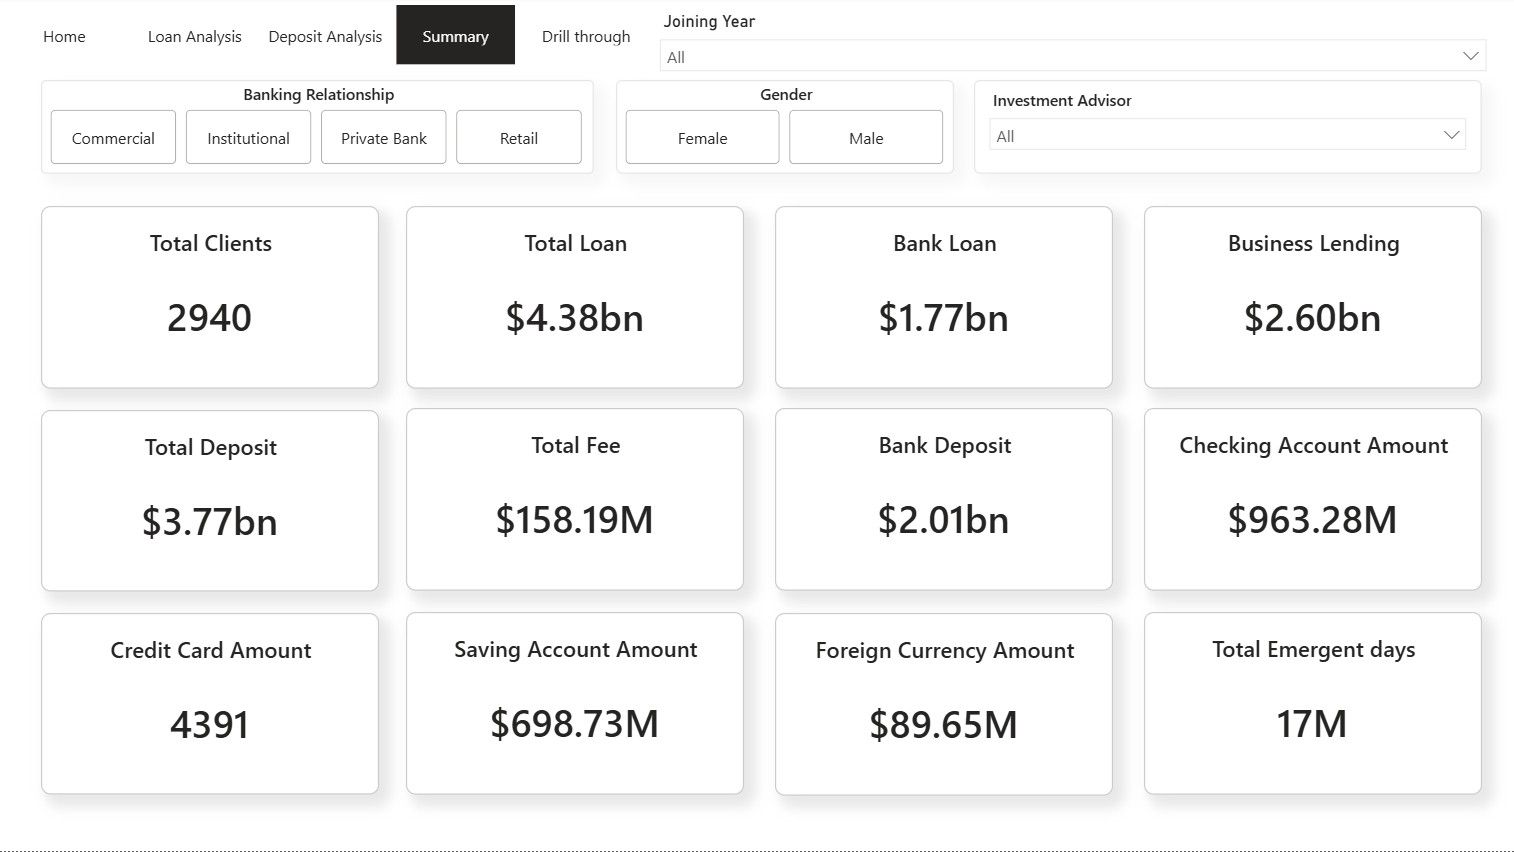

The page's visual inventory and layout, read from the dashboard file:
{"tool":"powerbi","page":{"name":"Summary","canvas":[1280,720],"ordinal":3},"visuals":[{"type":"pageNavigator","box":[6.3,7.2,541.8,50.1],"z":0},{"type":"advancedSlicerVisual","fields":{"Values":["banking-realtionships.Banking Relationship"]},"box":[36,70.2,466.3,79.2],"z":1000},{"type":"advancedSlicerVisual","fields":{"Values":["gender.Gender"]},"box":[521.2,70.2,285.3,79.2],"z":2000},{"type":"slicer","fields":{"Values":["investment-advisiors.Investment Advisor"]},"box":[822.7,70.2,428.5,79.2],"z":3000},{"type":"slicer","fields":{"Values":["banking.Joining Year"]},"box":[548.2,7.2,716.5,61.2],"z":4000},{"type":"cardVisual","title":"Total Clients","fields":{"Data":["Count(banking.Client ID)"]},"box":[36.1,176.1,284.5,153.6],"z":5000},{"type":"cardVisual","title":"Total Deposit","fields":{"Data":["banking.Total Deposit"]},"box":[36.1,347.8,284.5,153],"z":6000},{"type":"cardVisual","title":"Credit Card Amount","fields":{"Data":["Sum(banking.Amount of Credit Cards)"]},"box":[36.1,519.4,284.5,153],"z":7000},{"type":"cardVisual","title":"Total Loan","fields":{"Data":["banking.Total Loan"]},"box":[344.2,176.1,284.5,153.6],"z":8000},{"type":"cardVisual","title":"Bank Loan","fields":{"Data":["banking.Total Bank Loan"]},"box":[654.9,176.1,284.5,153.6],"z":9000},{"type":"cardVisual","title":"Business Lending","fields":{"Data":["banking.Total Business Lending"]},"box":[966.5,176.1,284.5,153.6],"z":10000},{"type":"cardVisual","title":"Total Fee","fields":{"Data":["banking.Total Fee"]},"box":[344.2,346.9,284.5,153.6],"z":11000},{"type":"cardVisual","title":"Saving Account Amount","fields":{"Data":["Sum(banking.Saving Accounts)"]},"box":[344.2,518.5,284.5,153.6],"z":12000},{"type":"cardVisual","title":"Bank Deposit","fields":{"Data":["Sum(banking.Bank Deposits)"]},"box":[654.9,346.9,284.5,153.6],"z":13000},{"type":"cardVisual","title":"Foreign Currency Amount","fields":{"Data":["Sum(banking.Foreign Currency Account)"]},"box":[654.9,519.4,284.5,153.6],"z":14000},{"type":"cardVisual","title":"Checking Account Amount","fields":{"Data":["banking.Total Checking Amount"]},"box":[966.5,346.9,284.5,153.6],"z":15000},{"type":"cardVisual","title":"Total Emergent days","fields":{"Data":["Sum(banking.Engagment Days)"]},"box":[966.5,518.5,284.5,153.6],"z":16000}]}

Visuals, with their boxes in screenshot pixels (x1, y1, x2, y2), scaled from the page's 1280x720 canvas onto the 1514x852 screenshot:
pageNavigator: pyautogui.locateOnScreen(7, 9, 648, 68)
advancedSlicerVisual - banking-realtionships.Banking Relationship: pyautogui.locateOnScreen(43, 83, 594, 177)
advancedSlicerVisual - gender.Gender: pyautogui.locateOnScreen(616, 83, 954, 177)
slicer - investment-advisiors.Investment Advisor: pyautogui.locateOnScreen(973, 83, 1480, 177)
slicer - banking.Joining Year: pyautogui.locateOnScreen(648, 9, 1496, 81)
"Total Clients" cardVisual: pyautogui.locateOnScreen(43, 208, 379, 390)
"Total Deposit" cardVisual: pyautogui.locateOnScreen(43, 412, 379, 593)
"Credit Card Amount" cardVisual: pyautogui.locateOnScreen(43, 615, 379, 796)
"Total Loan" cardVisual: pyautogui.locateOnScreen(407, 208, 744, 390)
"Bank Loan" cardVisual: pyautogui.locateOnScreen(775, 208, 1111, 390)
"Business Lending" cardVisual: pyautogui.locateOnScreen(1143, 208, 1480, 390)
"Total Fee" cardVisual: pyautogui.locateOnScreen(407, 410, 744, 592)
"Saving Account Amount" cardVisual: pyautogui.locateOnScreen(407, 614, 744, 795)
"Bank Deposit" cardVisual: pyautogui.locateOnScreen(775, 410, 1111, 592)
"Foreign Currency Amount" cardVisual: pyautogui.locateOnScreen(775, 615, 1111, 796)
"Checking Account Amount" cardVisual: pyautogui.locateOnScreen(1143, 410, 1480, 592)
"Total Emergent days" cardVisual: pyautogui.locateOnScreen(1143, 614, 1480, 795)
